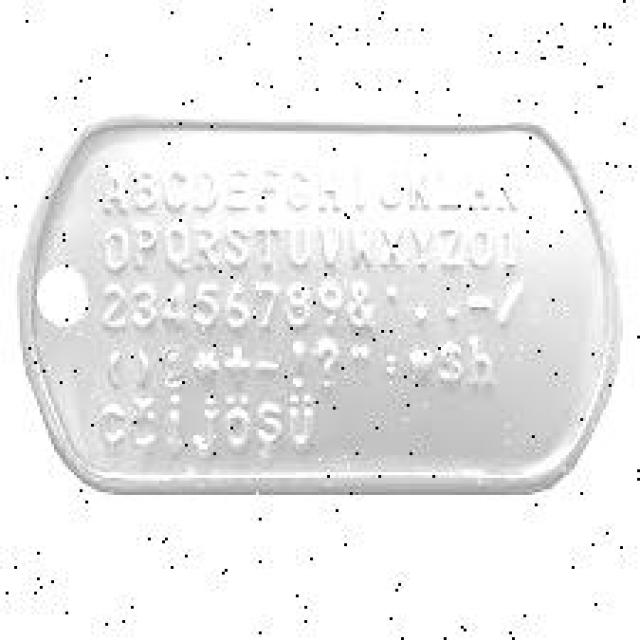ocr: (90, 167, 540, 466)
